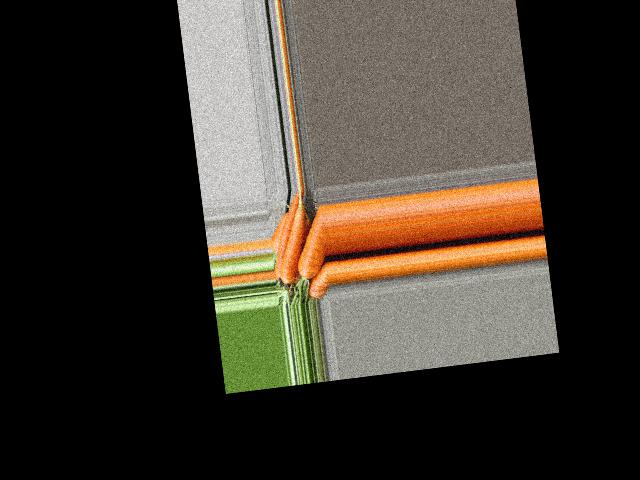carrot: (304, 255, 329, 284)
